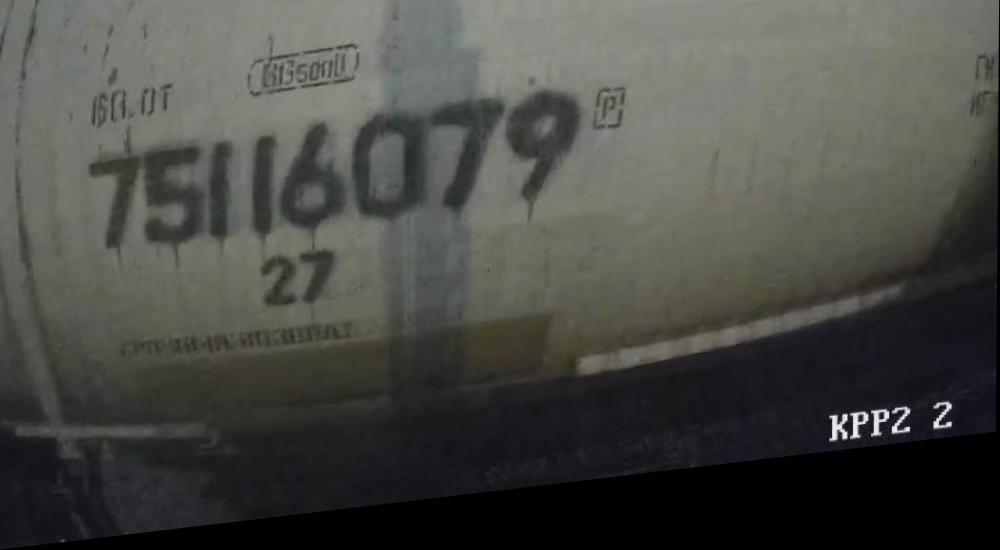Wagon-number: (83, 100, 585, 264)
